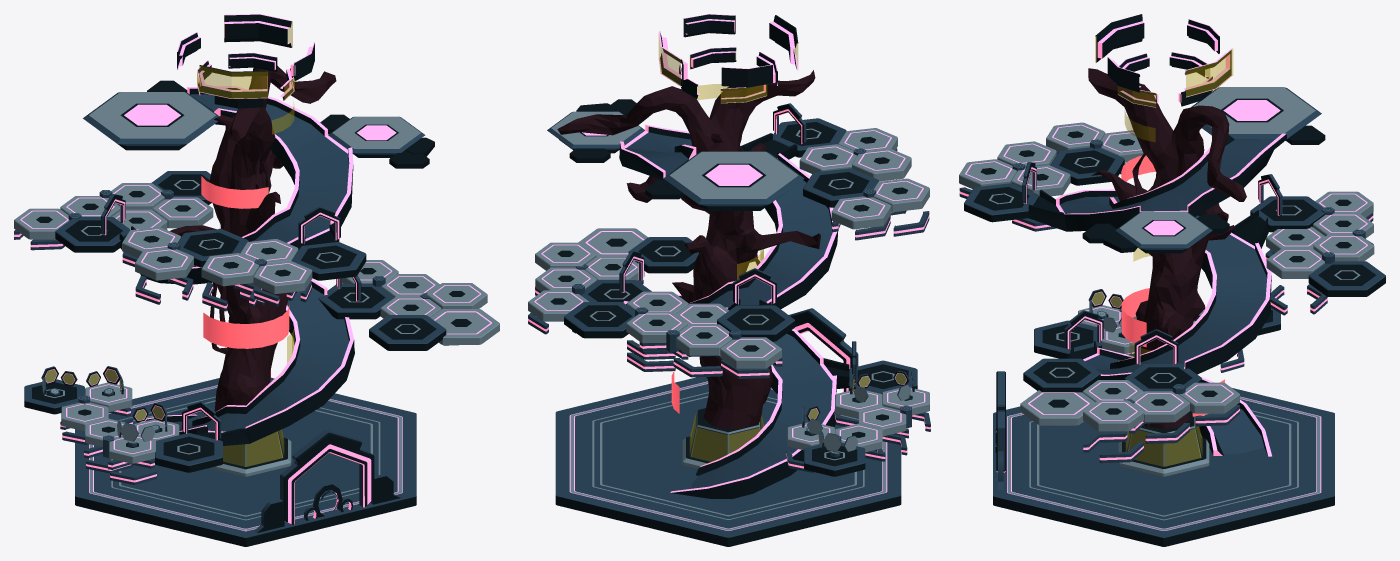
File: Museum_Size_01_Art.fbx
3 renders of one model, left to right at view 1: azimuth 30°, elevation 25°; view 2: azimuth 150°, elevation 25°; view 3: azimuth 270°, elevation 25°, orthographic.
Parts seen in each view (by area): view 1: museum_building_02_01_82, museum_building_02_016, museum_building_02_014, museum_building_02_017, museum_building_02_01_149, museum_building_02_01_114, museum_building_02_019, museum_building_02_01_160, museum_building_02_01_88, museum_building_02_01_126, museum_building_02_01_124, museum_building_02_01_134 (+33 smaller); view 2: museum_building_02_01_82, museum_building_02_016, museum_building_02_014, museum_building_02_01_149, museum_building_02_017, museum_building_02_01_94, museum_building_02_01_134, museum_building_02_01_244, museum_building_02_01_123, museum_building_02_01_88, museum_building_02_01_160, museum_building_02_01_110 (+37 smaller); view 3: museum_building_02_01_82, museum_building_02_016, museum_building_02_014, museum_building_02_017, museum_building_02_01_149, museum_building_02_01_160, museum_building_02_01_94, museum_building_02_01_88, museum_building_02_01_124, museum_building_02_01_244, museum_building_02_01_113, museum_building_02_013 (+30 smaller).
Boxes of the visible parts, <box> form: museum_building_02_01_82: <box>75,377,416,546</box>; museum_building_02_016: <box>140,86,354,443</box>; museum_building_02_014: <box>170,65,336,411</box>; museum_building_02_017: <box>177,14,314,108</box>; museum_building_02_01_149: <box>83,92,219,150</box>; museum_building_02_01_114: <box>201,176,289,377</box>; museum_building_02_019: <box>280,430,374,524</box>; museum_building_02_01_160: <box>328,116,425,157</box>; museum_building_02_01_88: <box>369,315,446,350</box>; museum_building_02_01_126: <box>155,433,222,472</box>; museum_building_02_01_124: <box>292,242,366,280</box>; museum_building_02_01_134: <box>55,217,130,252</box>; museum_building_02_01_82: <box>555,377,901,546</box>; museum_building_02_016: <box>619,124,837,498</box>; museum_building_02_014: <box>557,70,820,428</box>; museum_building_02_01_149: <box>663,151,804,210</box>; museum_building_02_017: <box>658,14,798,103</box>; museum_building_02_01_94: <box>564,302,634,338</box>; museum_building_02_01_134: <box>717,305,794,341</box>; museum_building_02_01_244: <box>690,408,763,461</box>; museum_building_02_01_123: <box>803,168,878,207</box>; museum_building_02_01_88: <box>628,237,698,273</box>; museum_building_02_01_160: <box>547,111,644,153</box>; museum_building_02_01_110: <box>720,337,781,368</box>; museum_building_02_01_82: <box>993,388,1334,546</box>; museum_building_02_016: <box>1055,133,1286,456</box>; museum_building_02_014: <box>1088,68,1246,428</box>; museum_building_02_017: <box>1095,14,1232,107</box>; museum_building_02_01_149: <box>1191,87,1321,139</box>; museum_building_02_01_160: <box>1115,211,1212,253</box>; museum_building_02_01_94: <box>1308,261,1385,296</box>; museum_building_02_01_88: <box>1023,358,1100,392</box>; museum_building_02_01_124: <box>964,183,1039,222</box>; museum_building_02_01_244: <box>1126,411,1201,466</box>; museum_building_02_01_113: <box>1020,390,1095,425</box>; museum_building_02_013: <box>1028,189,1268,359</box>.
Size of the model in its own units: 16115 by 17009 by 15331.
